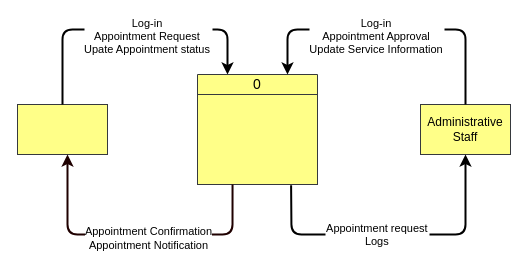
This 528x268 diagram has some shape labels left out. Here are the shapes that lost their labels. From the top down, the centre of each, then its label:
the point at 62,129: Patient
the point at 257,139: Online Clinic Reservation
